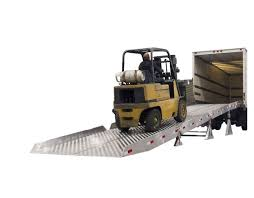Pallet Jack: (113, 46, 195, 132)
Yard Ramp: (28, 101, 241, 158)
